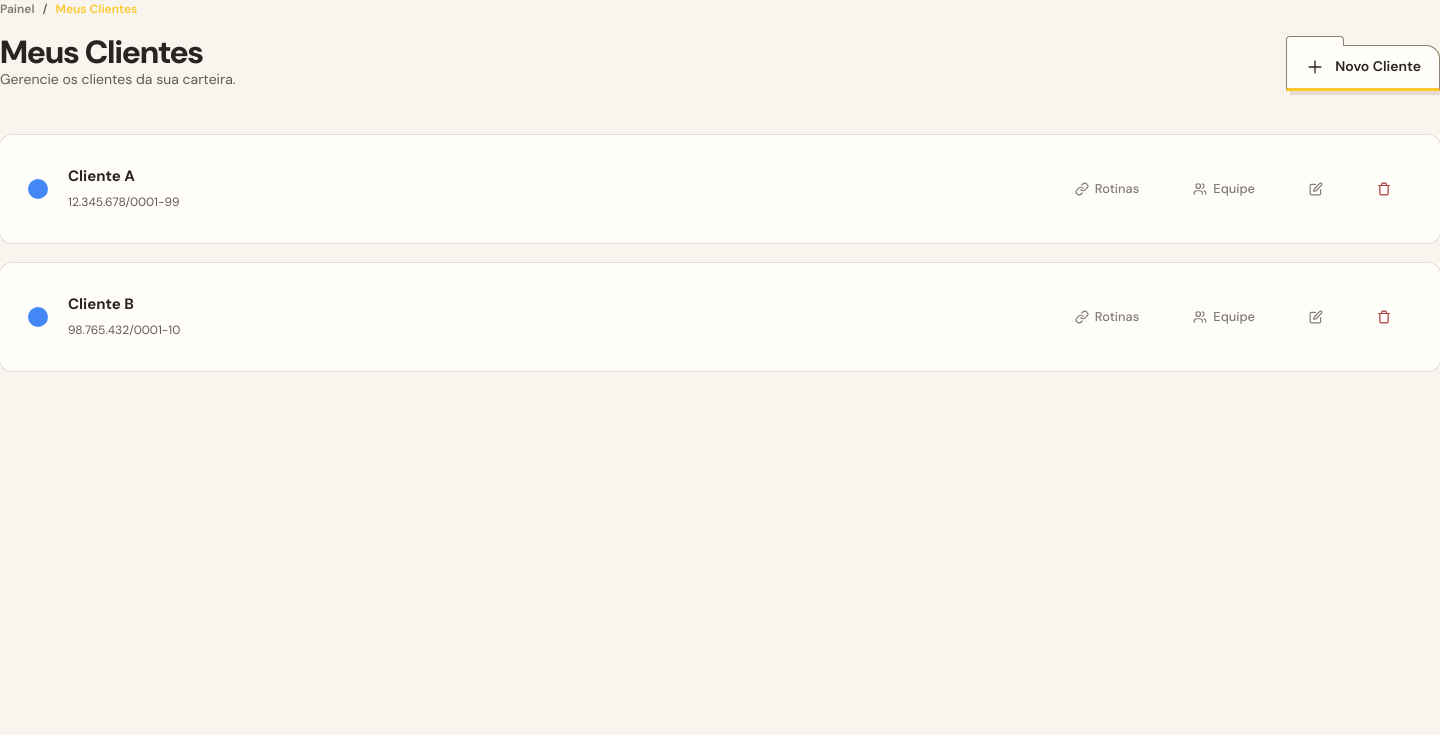
Scenario: EmpresasPage › autofills address data from CEP lookup on blur
Click the button "Novo Cliente" at (1363, 68), box [1286, 45, 1439, 91]
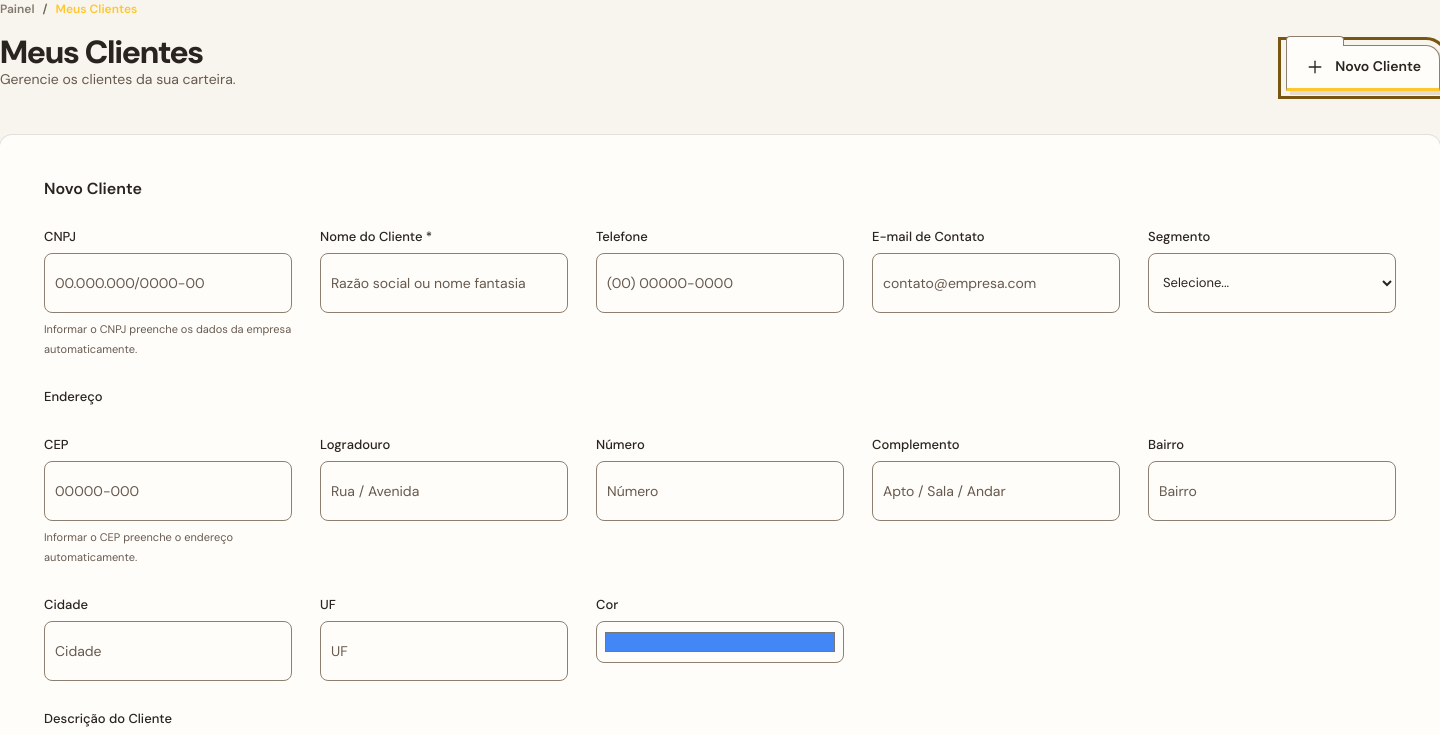
Type "01310100" into the field with placeholder "00000-000" at (168, 491), box [44, 461, 292, 521]
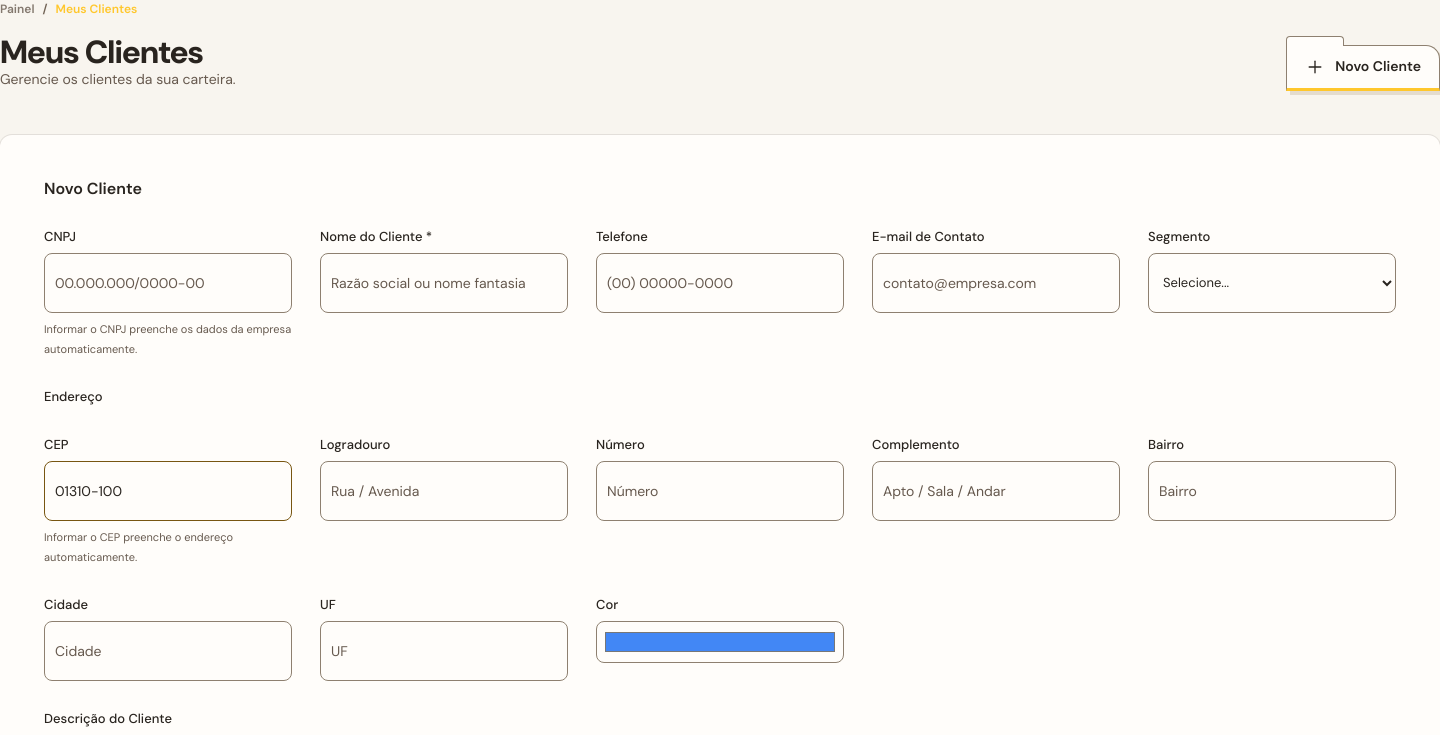
Leave the field with placeholder "00000-000", box [44, 461, 292, 521]
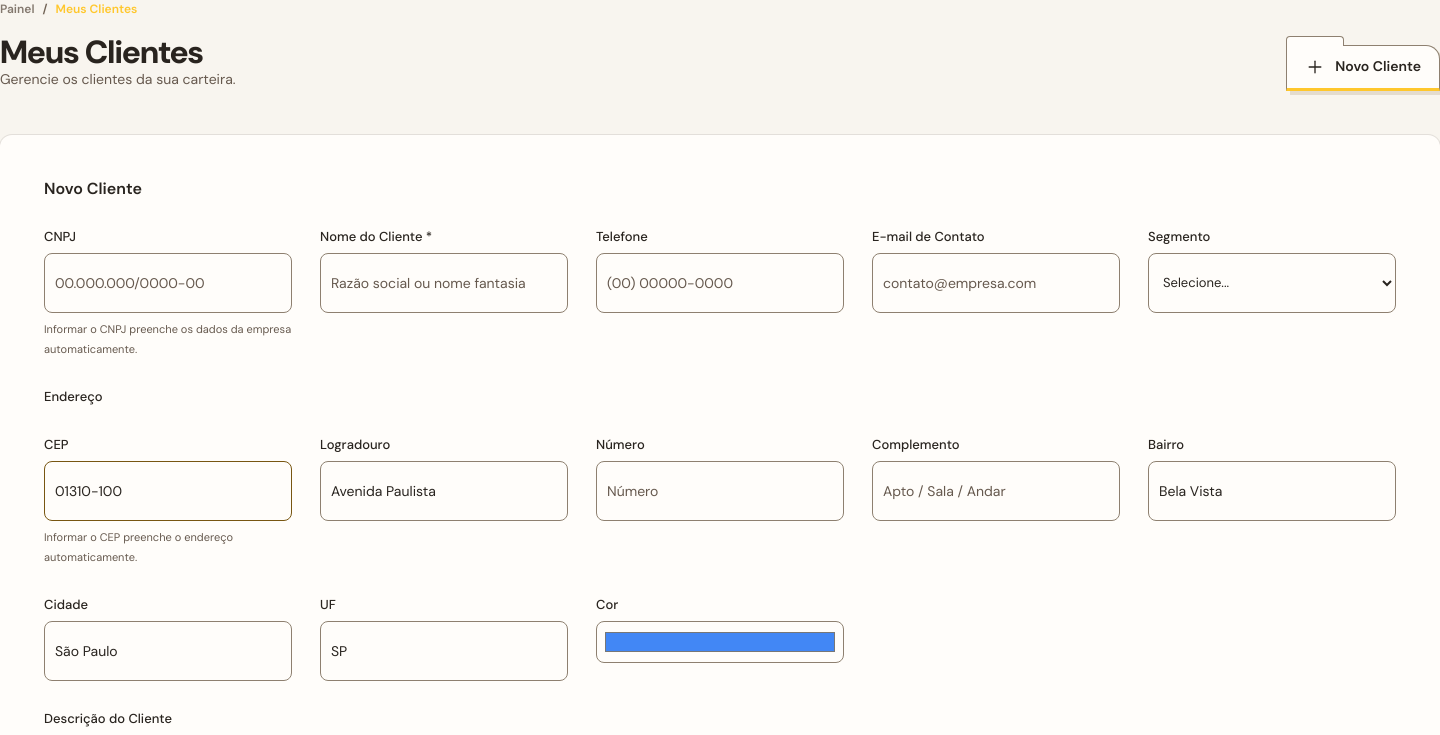
Expected: the field with placeholder "Rua / Avenida" below "Logradouro" holds "Avenida Paulista", [320, 461, 568, 521]
Expected: the field with placeholder "Bairro" below "Bairro" holds "Bela Vista", [1148, 461, 1396, 521]
Expected: the field with placeholder "Cidade" below "Cidade" holds "São Paulo", [44, 621, 292, 681]
